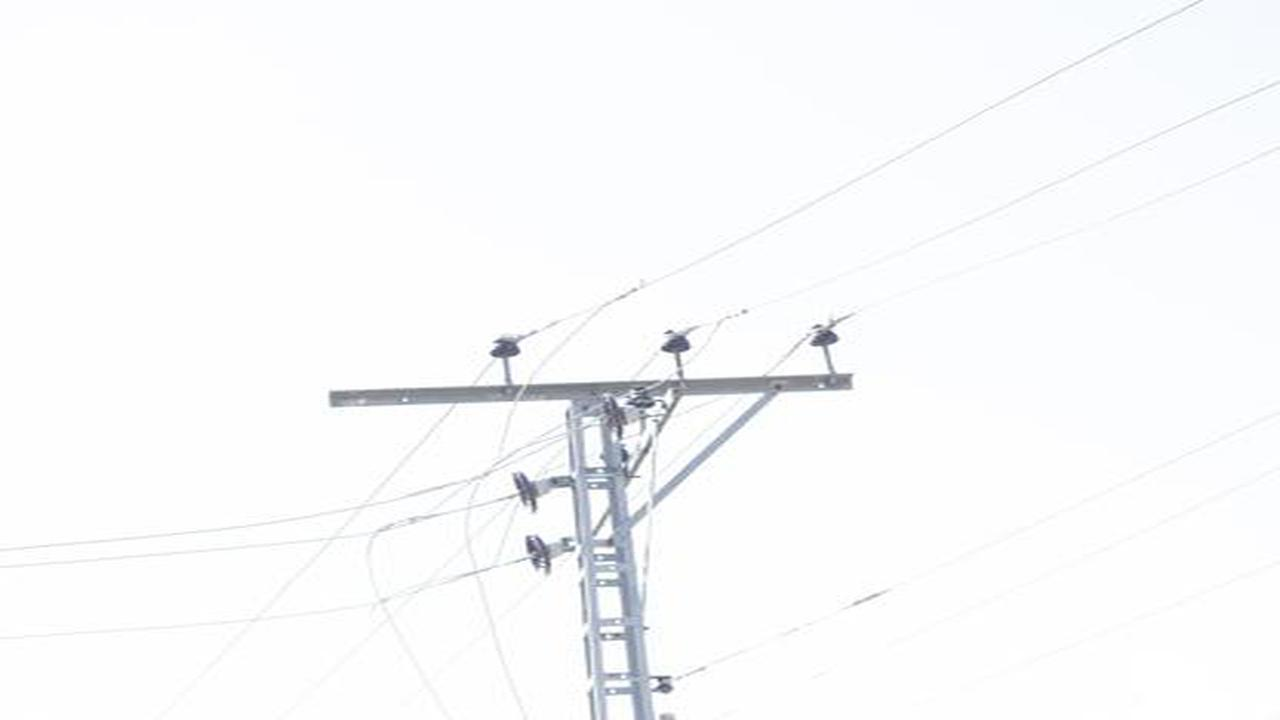insulator_disc: (523, 534, 567, 579), (510, 468, 555, 508), (604, 392, 633, 441)
insulator_pin: (809, 318, 845, 354), (654, 324, 693, 356), (487, 333, 523, 363), (628, 382, 658, 415)
